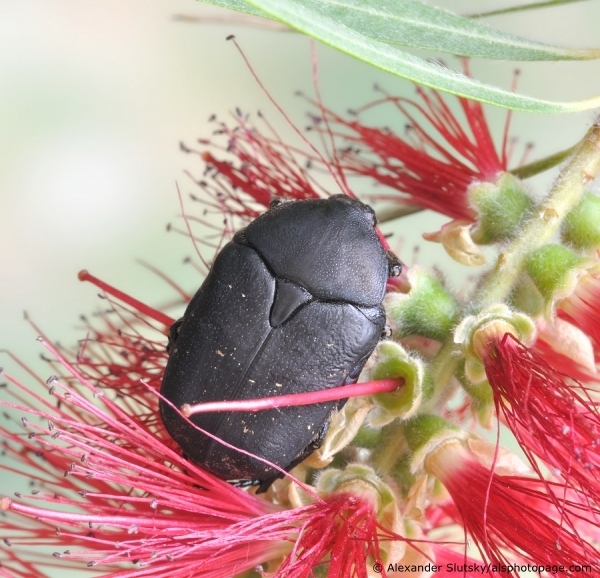Protaetia_afflicta: (149, 180, 398, 495)
